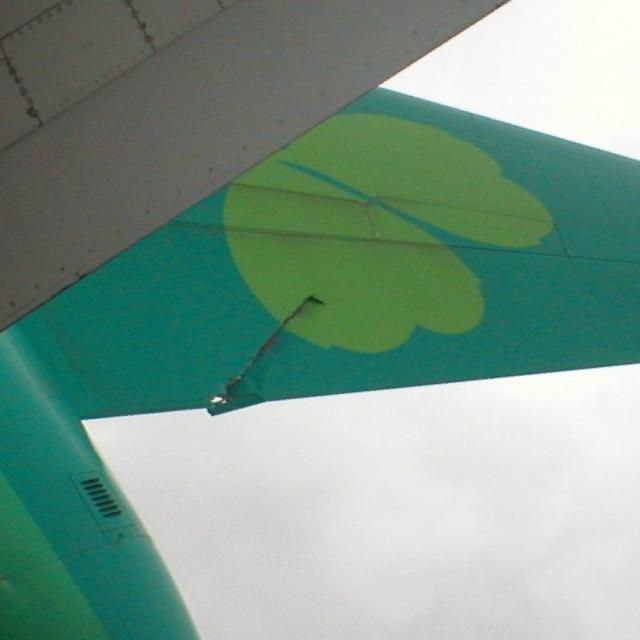crack: (195, 295, 333, 425)
